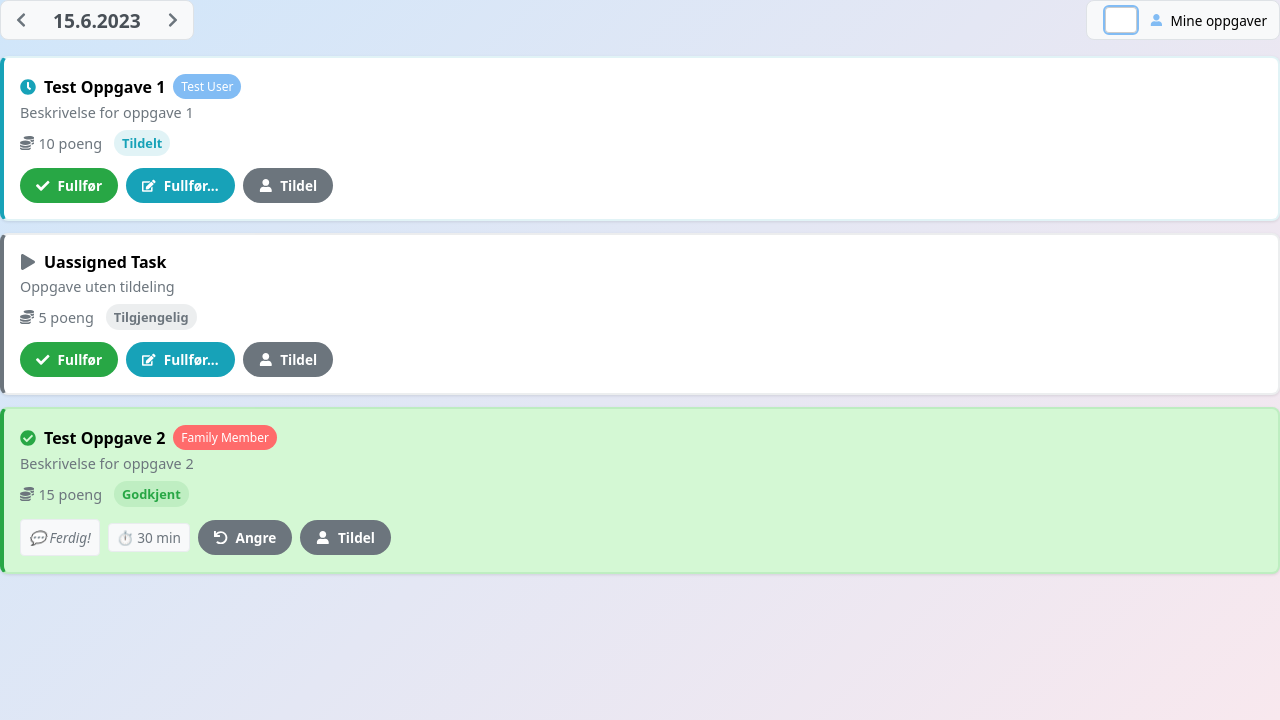
Test: TaskList › should open detailed completion modal when clicking "Fullfør..."
This screenshot has width=1280, height=720.
What coordinates should you click on to do the following:
click the button "Fullfør..." below "10"
I would click on:
 (180, 186)
Its box is [126,168,234,203].
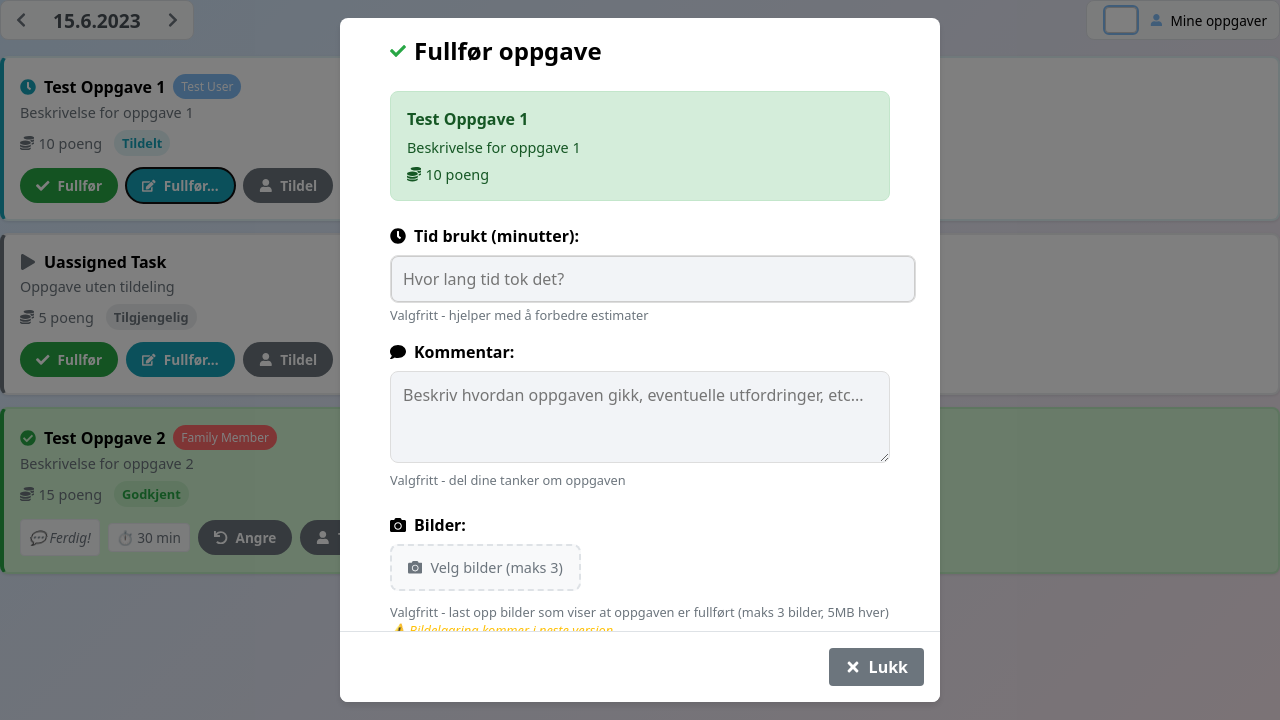
Now the heading "Fullfør oppgave" is shown, box [414,34,602,67]
